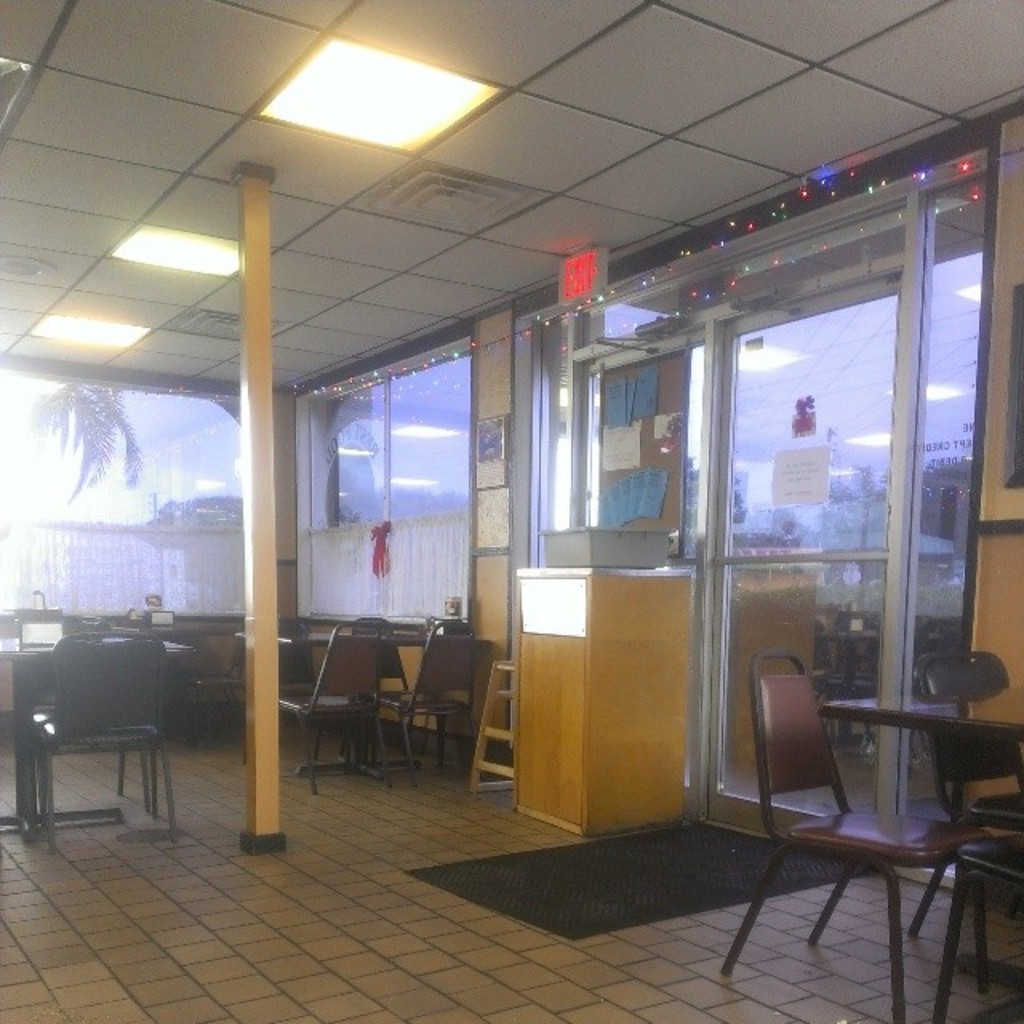door: (731, 316, 871, 801)
